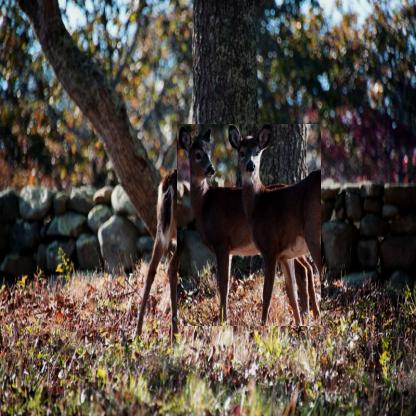Deer: (131, 124, 270, 343), (177, 124, 321, 326)
